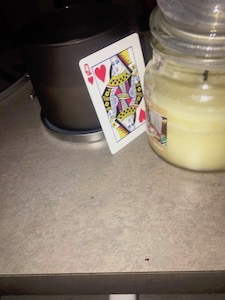QueenOfHearts: (77, 30, 158, 156)
